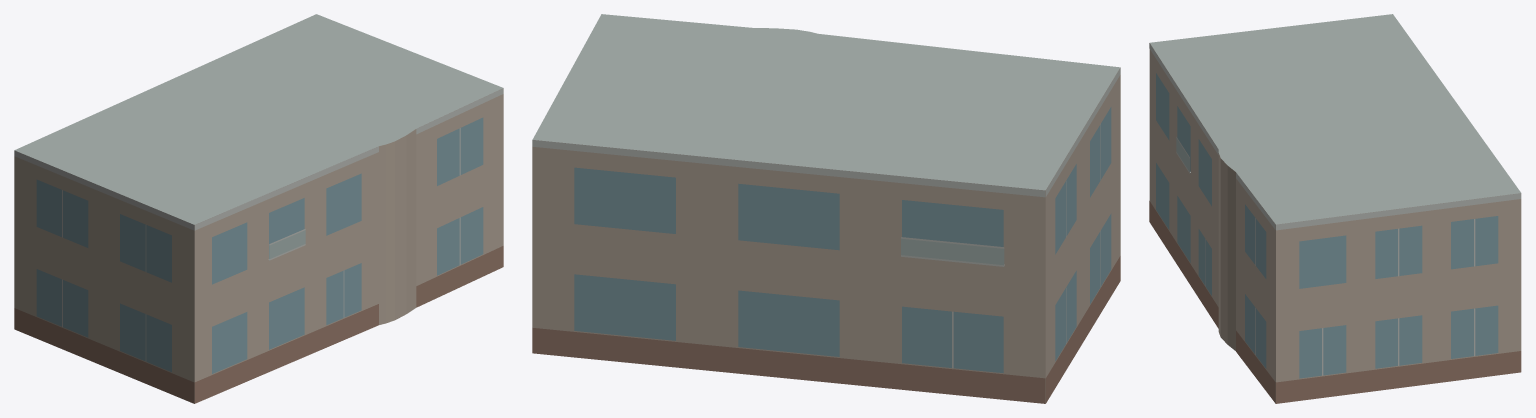
The model's file is survey-upis-32624074.glb.
3 renders of one model, left to right at view 1: azimuth 30°, elevation 25°; view 2: azimuth 150°, elevation 25°; view 3: azimuth 270°, elevation 25°, orthographic. The views are drawn at different scales.
Parts seen in each view (by area): view 1: survey-upis-32624074.tmp; view 2: survey-upis-32624074.tmp; view 3: survey-upis-32624074.tmp.
Boxes of the visible parts, x1,y1,x2,y2 form: survey-upis-32624074.tmp: (14,14,503,403); survey-upis-32624074.tmp: (532,14,1120,403); survey-upis-32624074.tmp: (1149,14,1521,403).
Size of the model in its own units: 18.91 by 7.5 by 14.11.
